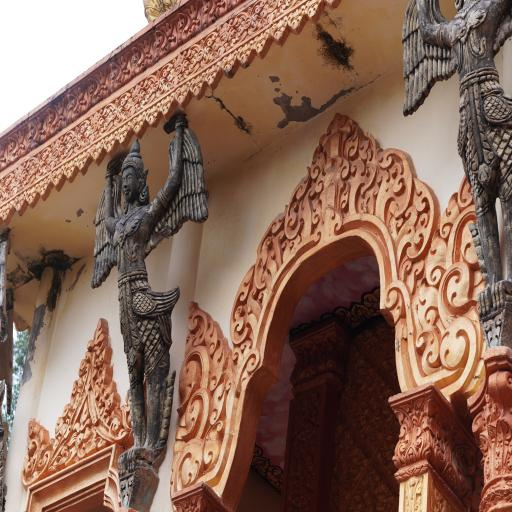la: (280, 167, 326, 264), (398, 172, 444, 263), (436, 312, 482, 394), (346, 133, 386, 224), (375, 142, 418, 225), (226, 266, 267, 350), (250, 209, 290, 293), (443, 201, 489, 274), (434, 258, 480, 328), (164, 433, 206, 494), (174, 346, 214, 404), (173, 385, 212, 444), (422, 224, 452, 286), (413, 273, 443, 334), (412, 324, 444, 381), (383, 279, 415, 334), (179, 300, 212, 352), (312, 202, 349, 244), (201, 415, 228, 471), (230, 337, 262, 383), (438, 188, 466, 240), (319, 109, 357, 143), (209, 334, 228, 394), (396, 253, 426, 290), (210, 374, 229, 426), (20, 438, 41, 484), (456, 170, 477, 214), (84, 317, 111, 348), (204, 315, 223, 357), (308, 144, 329, 180), (343, 124, 362, 160), (337, 179, 351, 214), (109, 416, 127, 441), (95, 344, 113, 369), (77, 349, 93, 376), (97, 361, 114, 386), (314, 167, 328, 197), (104, 392, 119, 414), (38, 450, 51, 474), (24, 418, 36, 439), (96, 400, 105, 416), (102, 412, 111, 428)
than: (78, 84, 214, 504), (395, 0, 511, 379), (0, 374, 11, 512)
